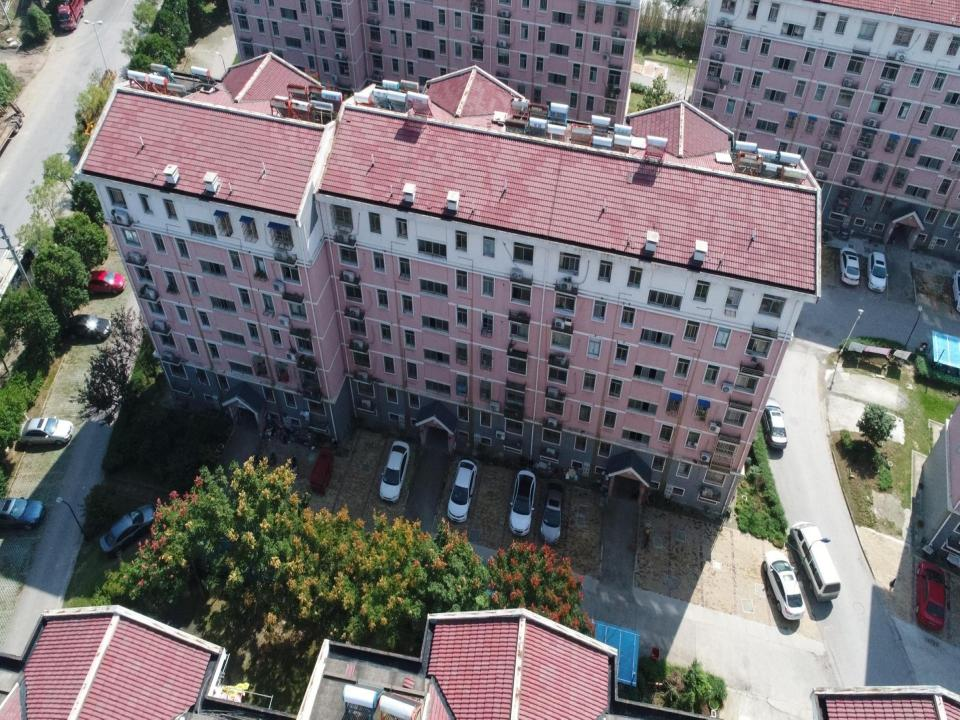car: (99, 503, 160, 558), (762, 549, 805, 620), (915, 561, 946, 632), (447, 458, 478, 523), (379, 441, 411, 503), (15, 417, 74, 447), (509, 470, 536, 535), (539, 478, 565, 545), (759, 397, 788, 450), (0, 498, 45, 530), (65, 315, 111, 340), (87, 270, 125, 294), (867, 251, 888, 292), (839, 247, 860, 287)
truck: (0, 244, 36, 312), (58, 0, 84, 32)
van: (790, 520, 841, 601), (309, 450, 334, 494)
